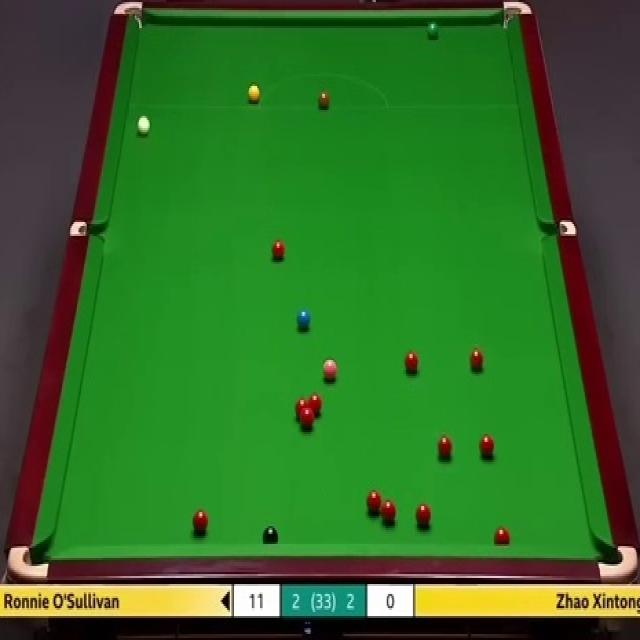black-ball: (262, 523, 280, 545)
blue-ball: (295, 308, 311, 333)
brown-ball: (316, 88, 330, 111)
green-ball: (425, 21, 440, 40)
pink-ball: (323, 354, 338, 382)
red-ball: (380, 497, 398, 528), (403, 349, 420, 378), (414, 503, 431, 529), (477, 433, 494, 458), (366, 489, 382, 515), (470, 348, 484, 374), (194, 508, 208, 534), (437, 434, 452, 458), (271, 239, 286, 262), (308, 394, 322, 418), (494, 526, 510, 546), (301, 410, 314, 430), (295, 398, 308, 418)
white-ball: (134, 114, 151, 139)
yellow-ball: (246, 83, 260, 103)
